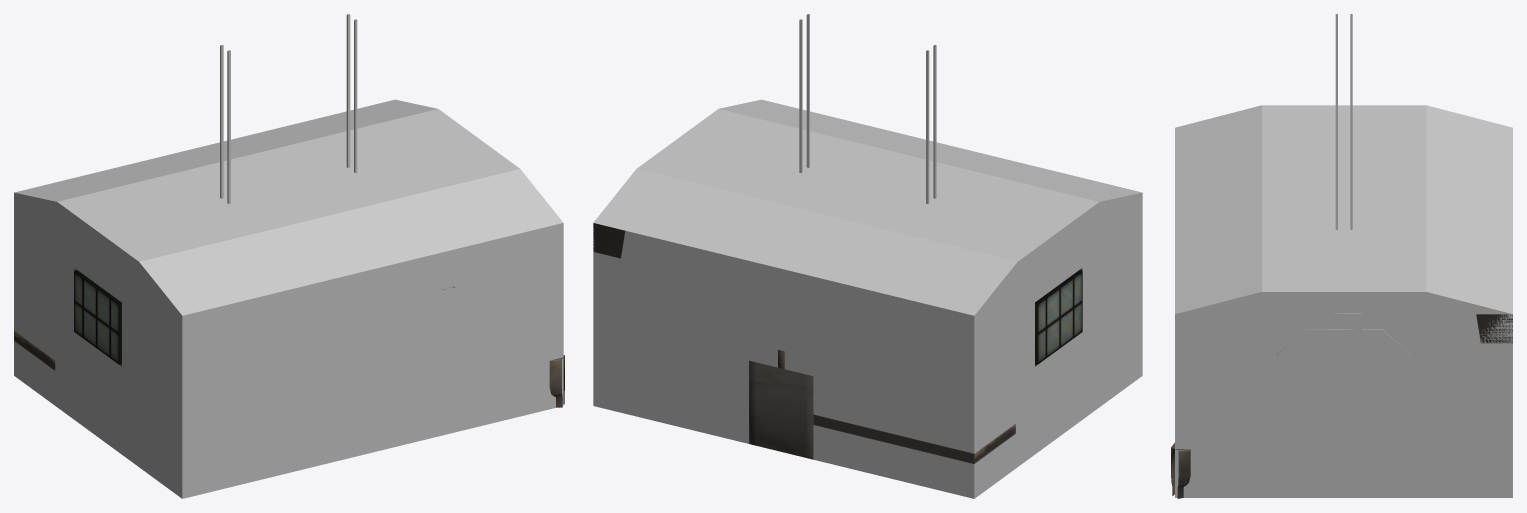
The model's file is Cela_Completa.fbx.
The picture shows the model from 3 angles, left to right: view 1: azimuth 30°, elevation 25°; view 2: azimuth 150°, elevation 25°; view 3: azimuth 270°, elevation 25°; orthographic projection.
Parts seen in each view (by area): view 1: Plane.172; view 2: Plane.172; view 3: Plane.172.
Part boxes in pixels (box(x1,y1,x2,y2)): Plane.172: box(14, 14, 564, 498); Plane.172: box(593, 14, 1142, 498); Plane.172: box(1171, 14, 1512, 498).
Bounding box in the file's own units: 529 × 469 × 405.
